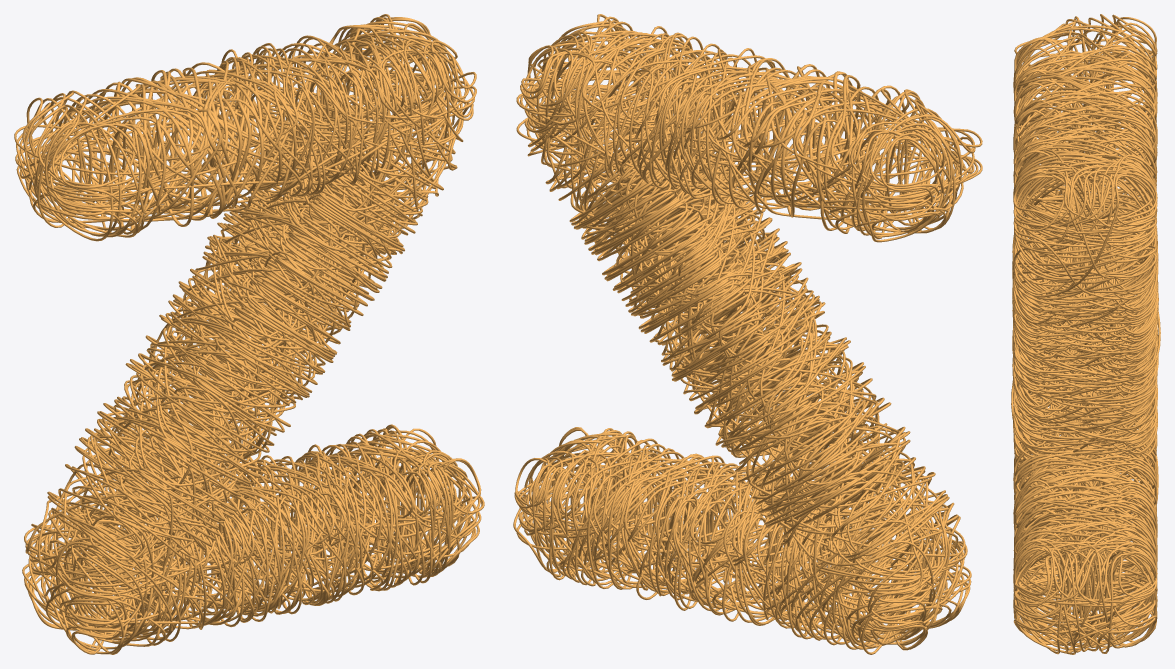
File: letter_z.glb
3 renders of one model, left to right at view 1: azimuth 30°, elevation 25°; view 2: azimuth 150°, elevation 25°; view 3: azimuth 270°, elevation 25°, orthographic. The views are drawn at different scales.
Visible parts, largest first — view 1: letter_z; view 2: letter_z; view 3: letter_z.
Boxes of the visible parts, box(x1,y1,x2,y2) form: letter_z: box(14, 14, 484, 654); letter_z: box(513, 14, 982, 654); letter_z: box(1011, 14, 1160, 654).
Bounding box in the file's own units: 0.4904 × 0.5881 × 0.1668.
